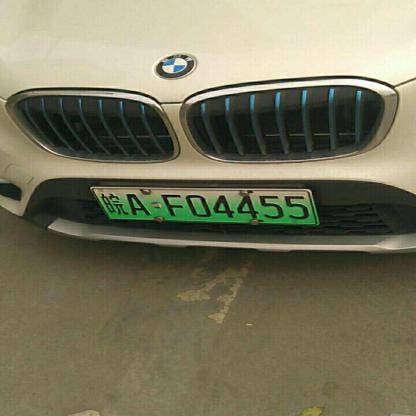lp: (89, 188, 318, 223)
